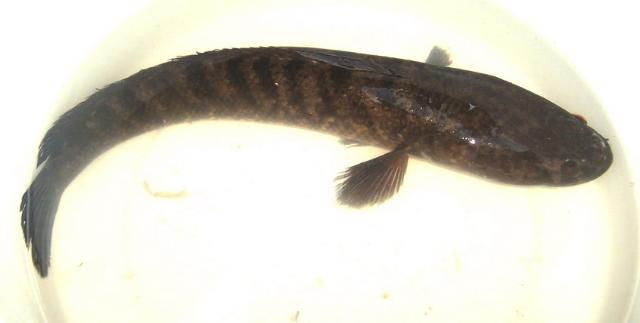Sirip Dada: (316, 125, 436, 229), (409, 34, 465, 92)
Sirip Ekor: (0, 134, 104, 292)
Sirip Punggung: (14, 42, 406, 164)
